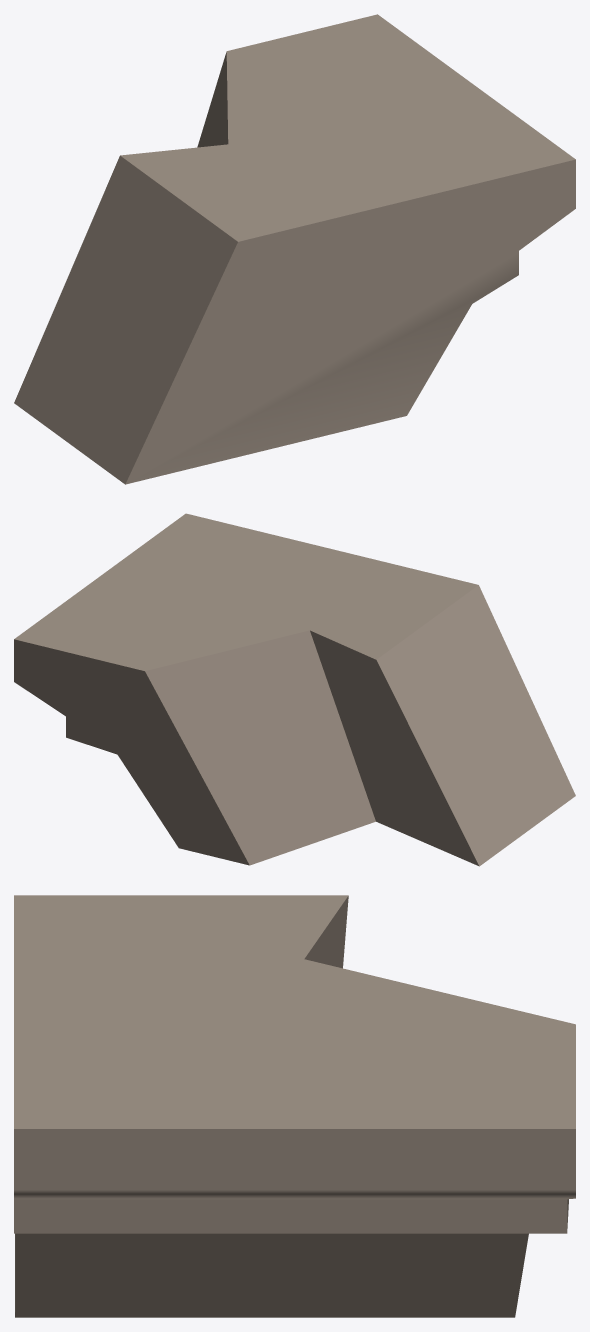
File: Front_left_edge_broken_balcony_5.fbx
The picture shows the model from 3 angles, top to bottom: view 1: azimuth 30°, elevation 25°; view 2: azimuth 150°, elevation 25°; view 3: azimuth 270°, elevation 25°; orthographic projection. The views are drawn at different scales.
Parts seen in each view (by area): view 1: polySurface602; view 2: polySurface602; view 3: polySurface602.
Boxes of the visible parts, x1=… form: polySurface602: x1=14, y1=14, x2=575, y2=484; polySurface602: x1=14, y1=513, x2=575, y2=866; polySurface602: x1=14, y1=895, x2=575, y2=1317.
Size of the model in its own units: 1.13 by 0.5154 by 0.8593.
